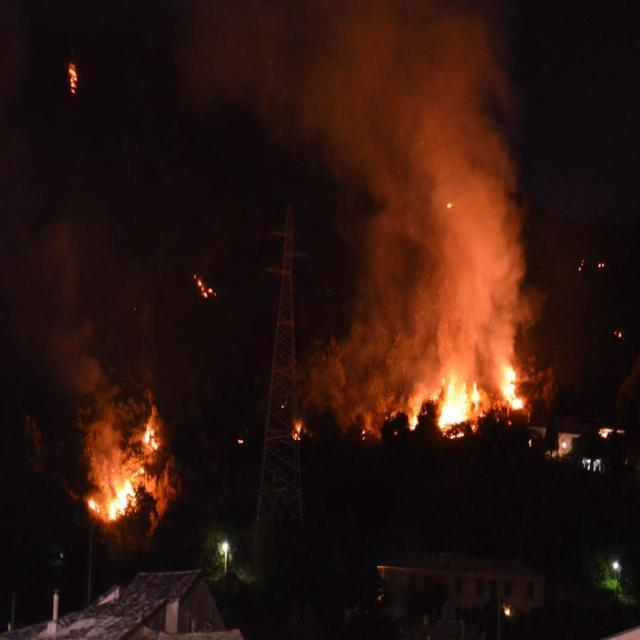Fire: (438, 373, 480, 440), (502, 363, 531, 428), (108, 476, 138, 524), (478, 396, 511, 420), (410, 383, 437, 411), (192, 273, 217, 299), (292, 420, 312, 444), (143, 424, 158, 452), (86, 497, 102, 514), (68, 64, 77, 94), (410, 407, 420, 432), (131, 466, 147, 478)
Smoke: (318, 0, 542, 364), (53, 228, 122, 410), (308, 347, 410, 420), (86, 414, 125, 486), (144, 463, 182, 531), (532, 368, 560, 407), (478, 363, 501, 395)
